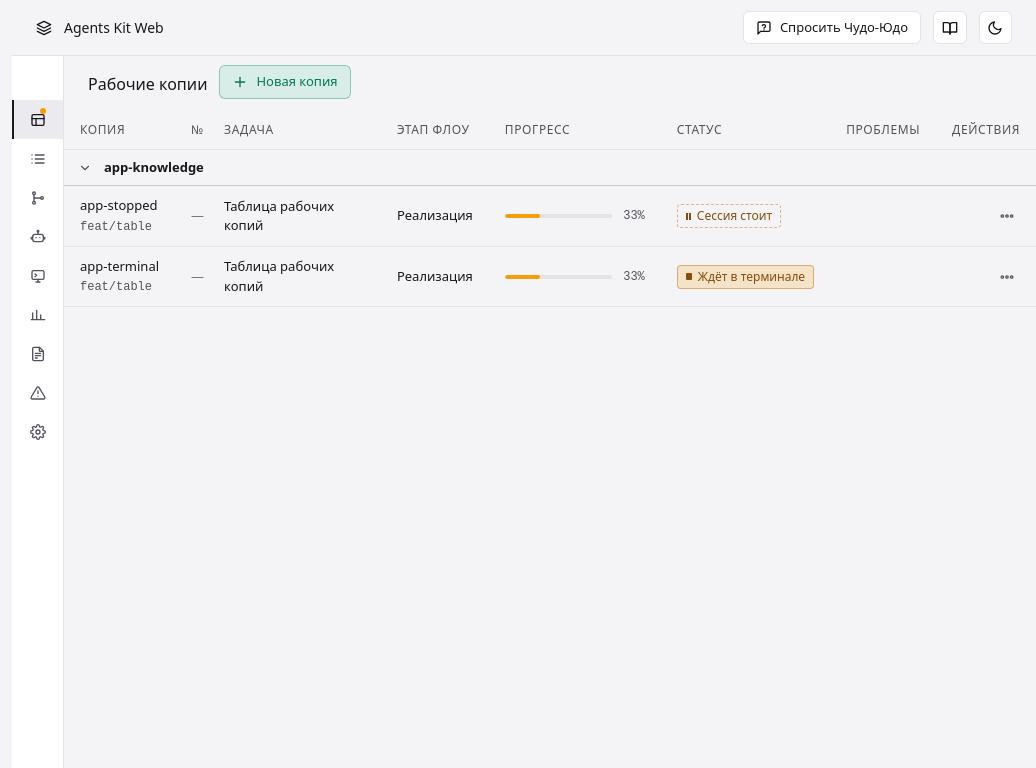
Test case: остановившаяся сессия и диалог в терминале стоят своими плашками и зовут оператора
Expected: the number of elements with class "waiting" is 2, [505,214,540,218]; [505,274,540,278]
Expected: the button named "Рабочие копии, 2 ждут" is shown, [12,100,63,139]
What coordinates should you click on to do the following:
click the button named "Свернуть app-knowledge"
I would click on:
 (85, 168)
Its box is [76,158,94,176].
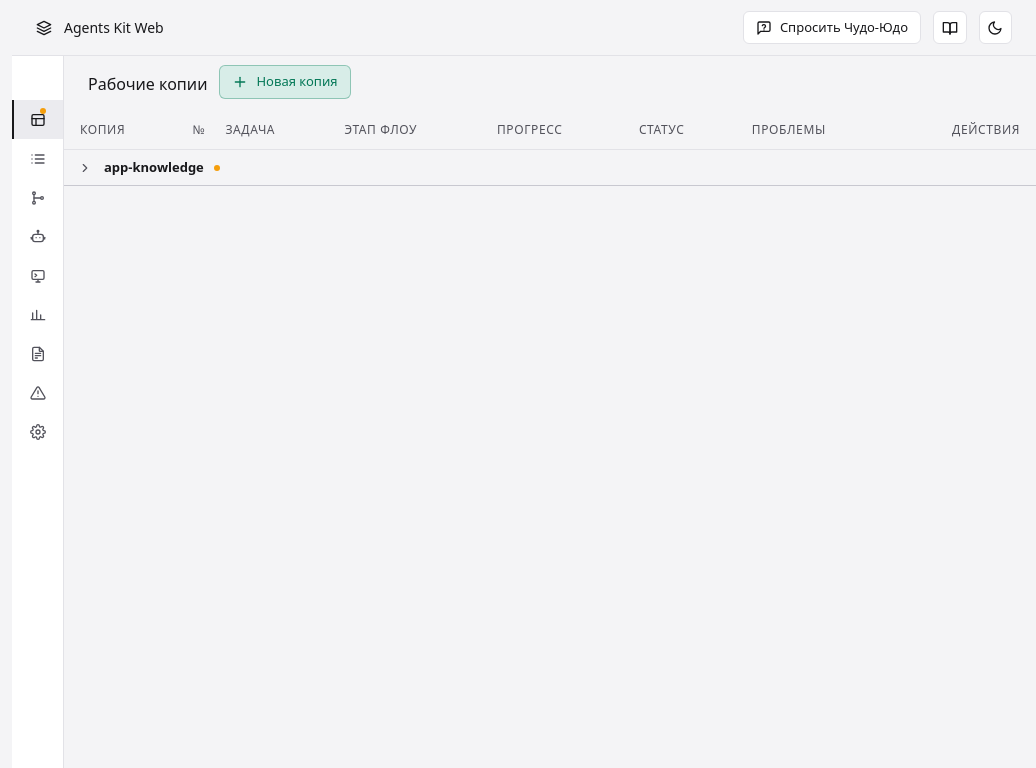
Expected: the number of elements with class "group-waiting-dot" is 1, [214,164,220,170]
